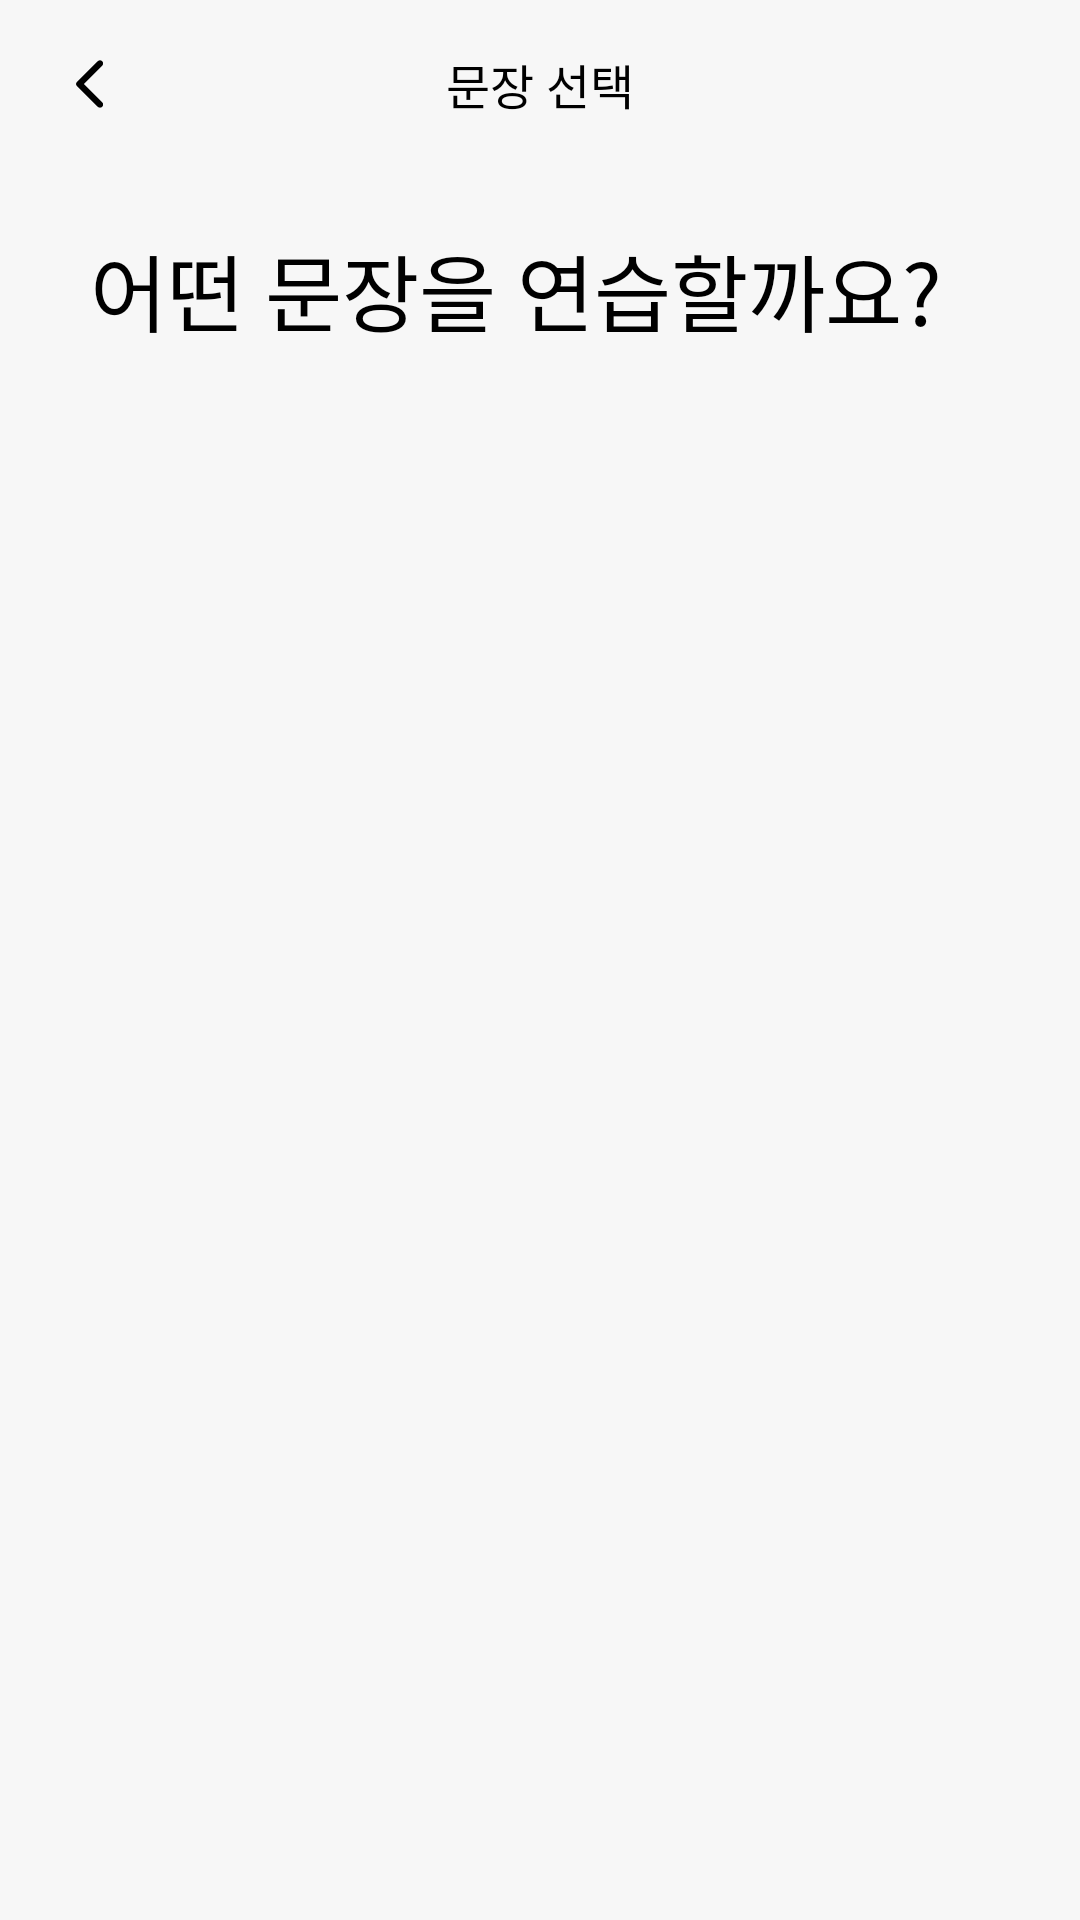

Icons on this 1080*1920 Android screen, each with its box as (x1, y1, x2, y2):
arrow back: (76, 60, 103, 108)
